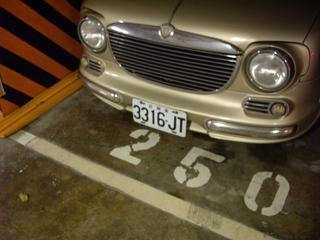plate: (130, 96, 188, 139)
